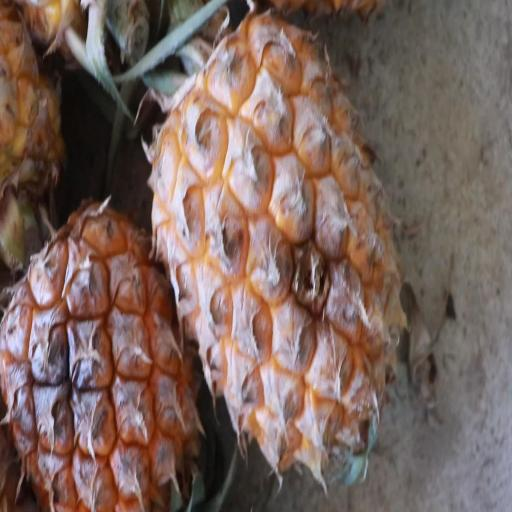Pineapple - v8 v1: (148, 0, 407, 494), (0, 187, 207, 512)
